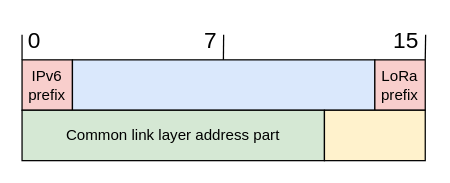
Image size: 450x183. Some labels were removed from this diagram. The shapes that lost their labels are listed below. From the top down, each one's centre as x and y in pixels, then its label:
At [223,84]: "ZEROS".
At [374,135]: "node-id".
